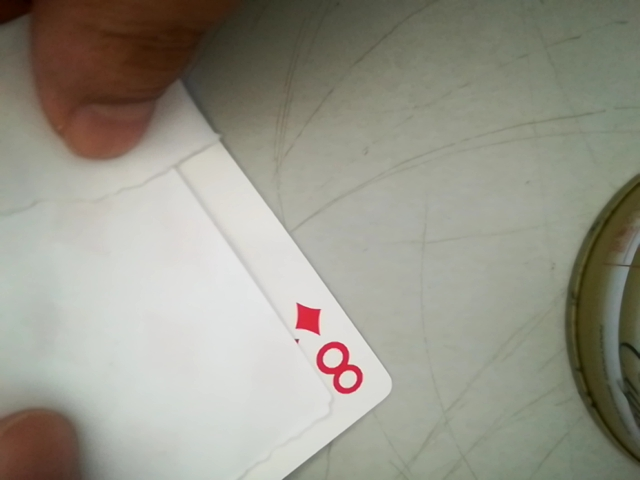fk 8: (291, 294, 365, 410)
